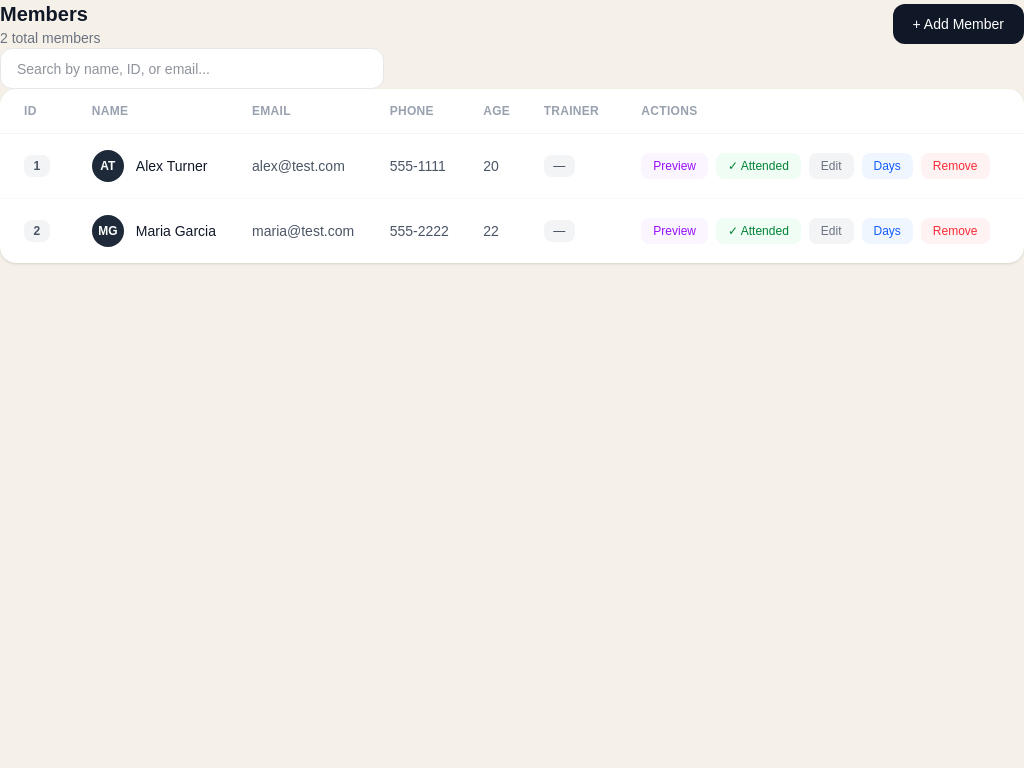
Test: Admin Members Page › opens edit modal with member data pre-filled
Expected: the text "Alex Turner" is shown, [136,156,207,176]
Click the button "Edit" in the row of "Turner" at [831, 166], box [809,153,854,179]
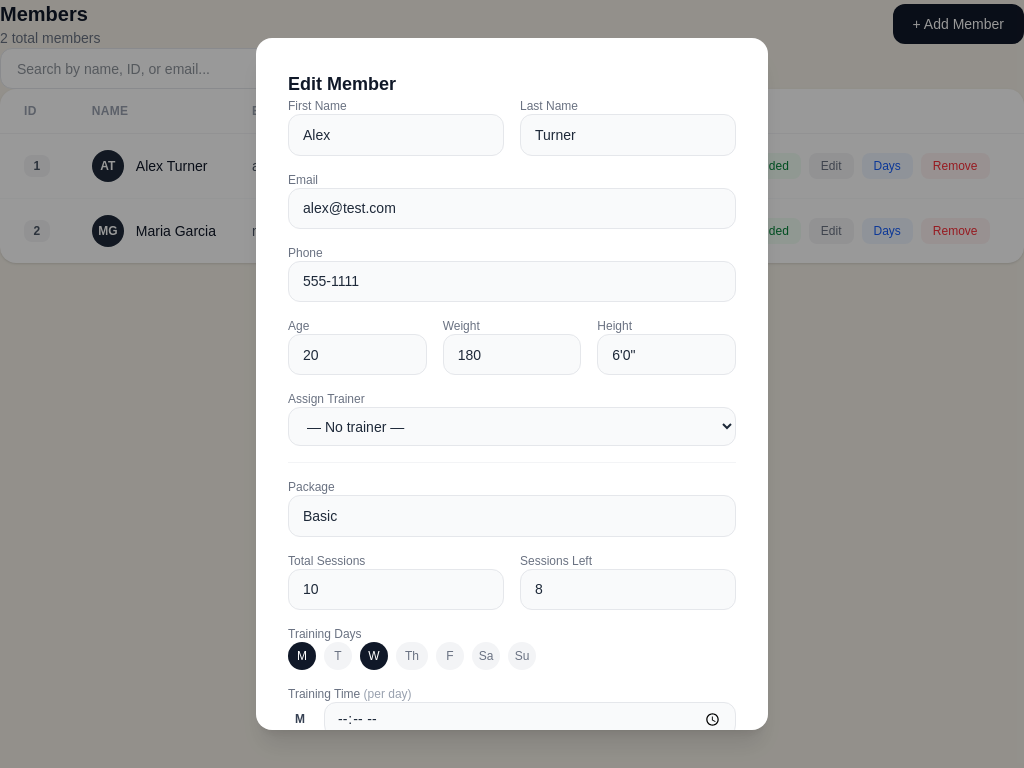
Now the field showing "Alex" below "First Name" is shown, box [288,114,504,156]
